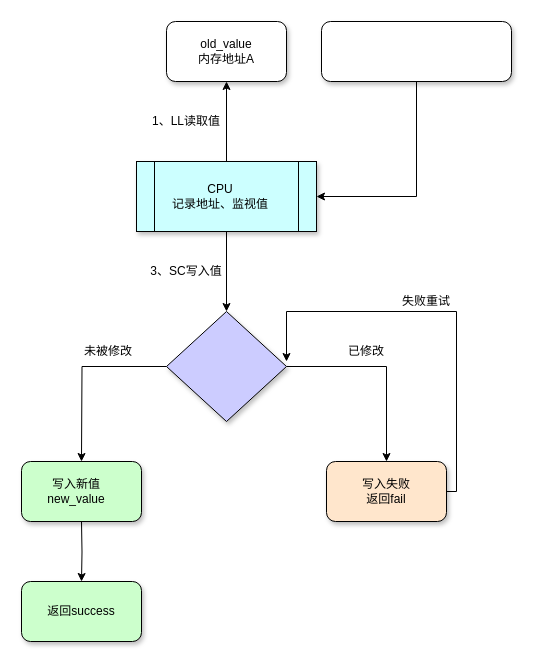
Image size: 535x666. Some labels were removed from this diagram. The centre of each missing label's shape, as x and y in pixels:
"2、计算新值 new_value = old_value + 1" goes at point 417,52.
"检查A是否仍被 当前线程标记" goes at point 227,367.
